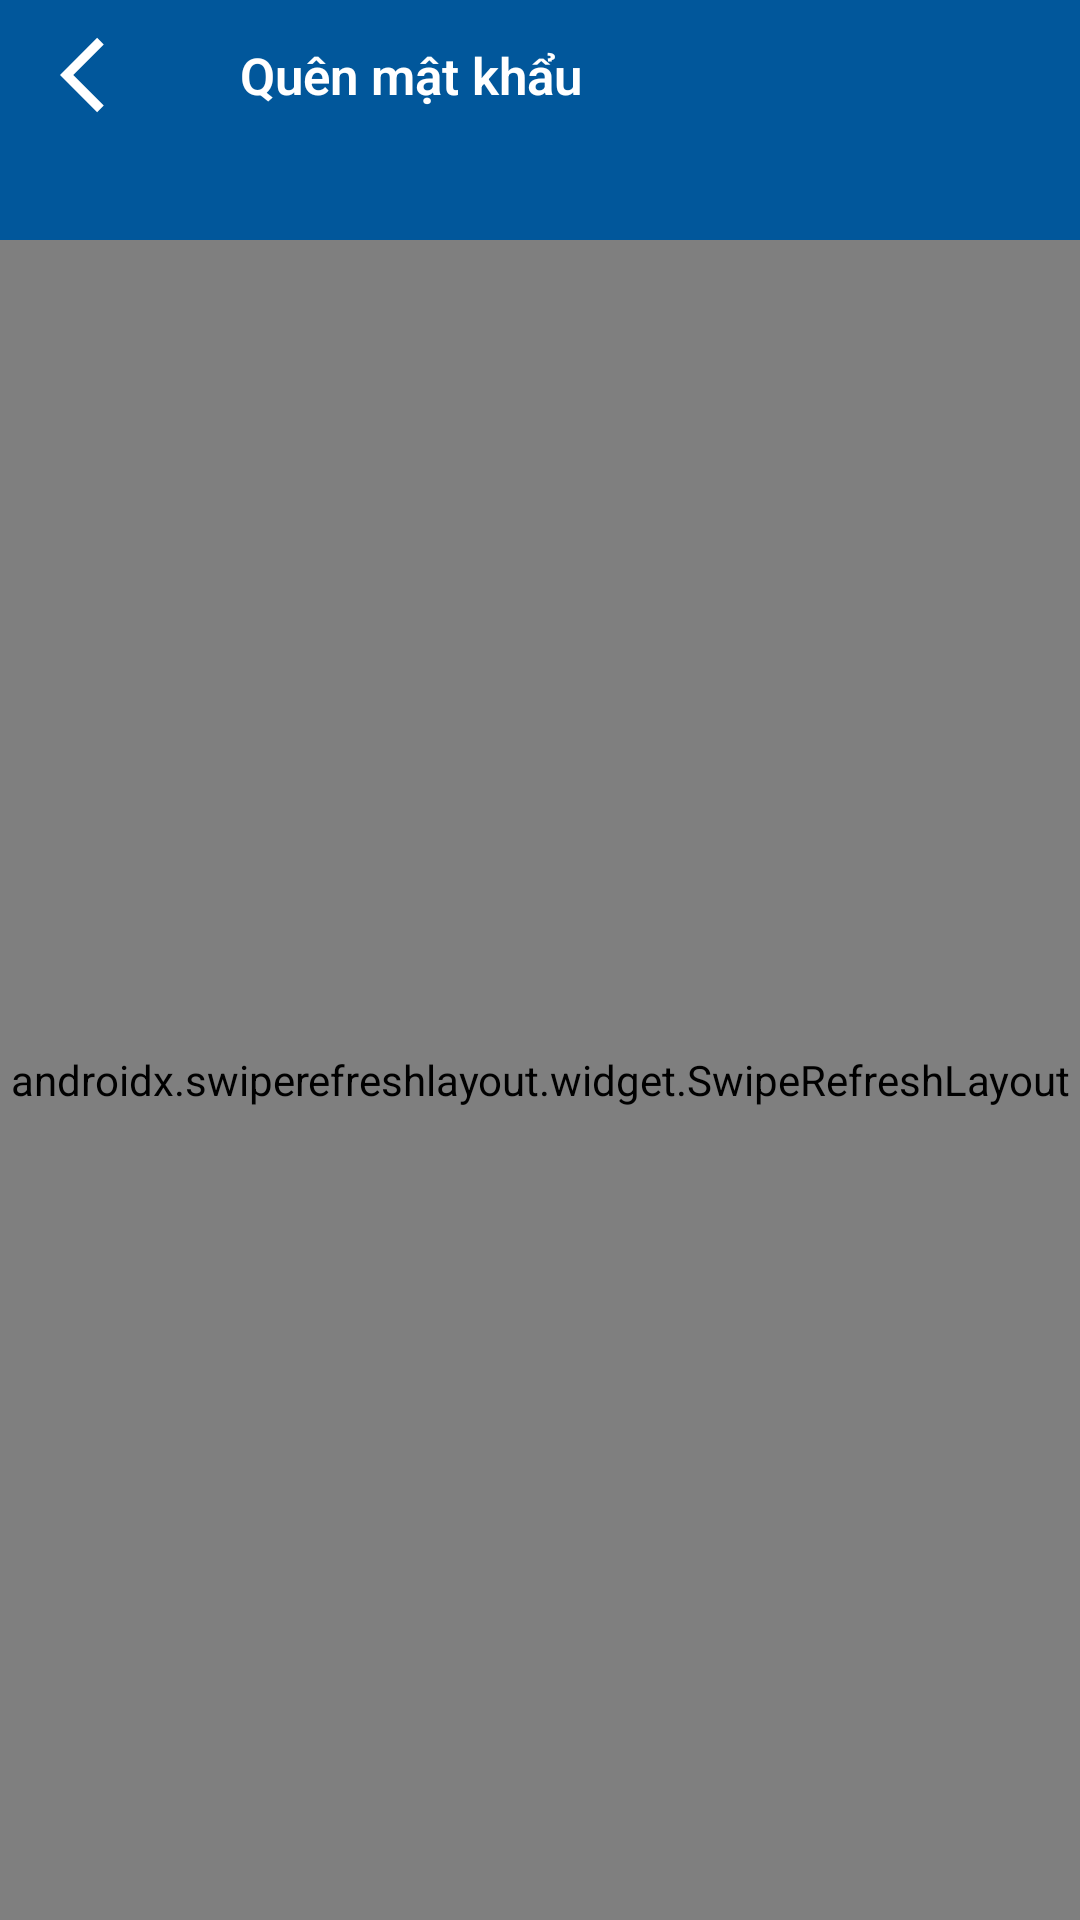

Where to tap for icons on this 1080 × 1920 app screen, as point (x, y):
back: point (82, 75)
